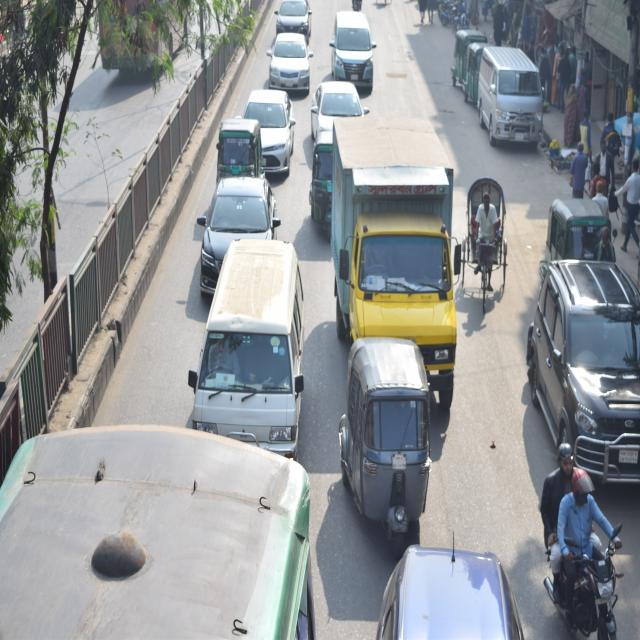bus: (0, 421, 326, 640), (96, 0, 197, 82)
car: (531, 246, 640, 494), (375, 529, 519, 640), (204, 169, 272, 295), (243, 84, 299, 167), (308, 82, 362, 141), (267, 33, 314, 95), (275, 4, 314, 42)
microbus: (188, 238, 308, 434), (482, 45, 540, 142), (330, 10, 374, 90)
motorbike: (533, 471, 640, 639), (439, 0, 465, 29)
pickup-van: (331, 123, 464, 410)
